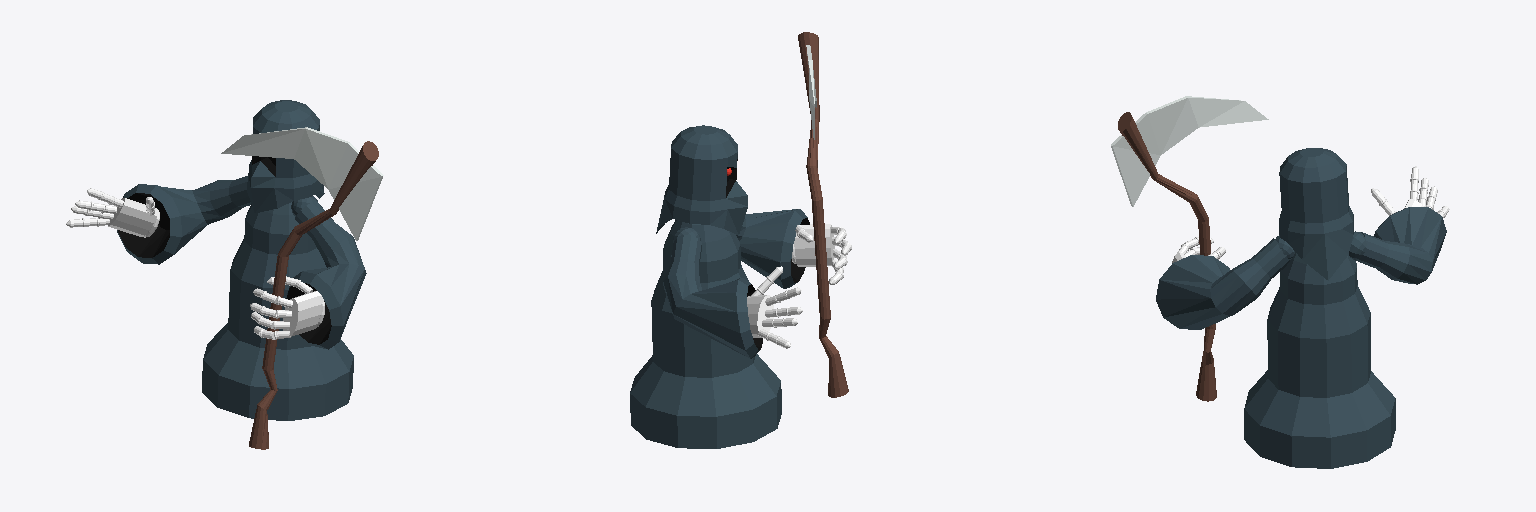
The model's file is GrimReaper.obj.
The picture shows the model from 3 angles: view 1: azimuth 30°, elevation 25°; view 2: azimuth 150°, elevation 25°; view 3: azimuth 270°, elevation 25°; orthographic projection.
Parts seen in each view (by area): view 1: Grim_reaper_mesh[number redacted]; view 2: Grim_reaper_mesh[number redacted]; view 3: Grim_reaper_mesh[number redacted].
Boxes of the visible parts, x1,y1,x2,y2 form: Grim_reaper_mesh[number redacted]: [66, 100, 383, 449]; Grim_reaper_mesh[number redacted]: [630, 32, 851, 448]; Grim_reaper_mesh[number redacted]: [1111, 96, 1449, 468].
Size of the model in its own units: 3.78 by 5.38 by 5.14.